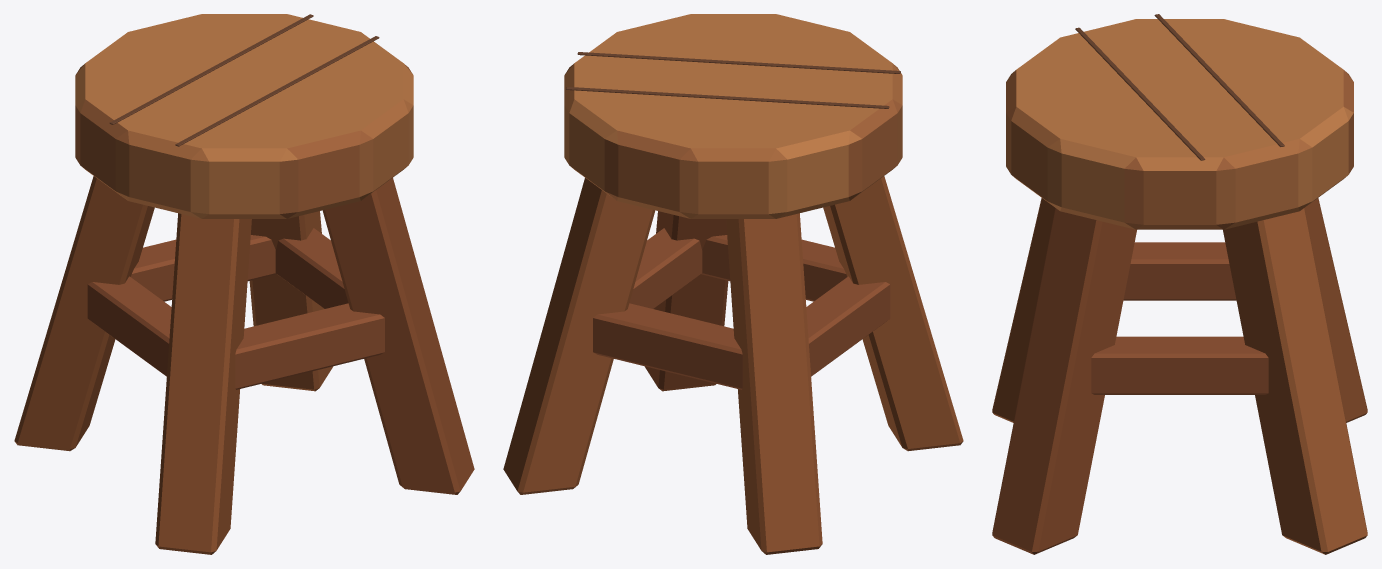
File: fantasy-wooden-stool.glb
The picture shows the model from 3 angles, left to right: view 1: azimuth 30°, elevation 25°; view 2: azimuth 150°, elevation 25°; view 3: azimuth 270°, elevation 25°; orthographic projection. The views are drawn at different scales.
Parts seen in each view (by area): view 1: Seat | faceted round top, Leg | NW, Leg | NE, Leg | SW, Stretcher | north, Stretcher | west, Leg | SE, Stretcher | east, Stretcher | south, Seat seam | board joint 1, Seat seam | board joint 2; view 2: Seat | faceted round top, Leg | SW, Leg | SE, Leg | NW, Stretcher | south, Stretcher | west, Leg | NE, Stretcher | east, Stretcher | north, Seat seam | board joint 1, Seat seam | board joint 2; view 3: Seat | faceted round top, Leg | NE, Leg | SE, Stretcher | east, Stretcher | west, Leg | NW, Leg | SW, Seat seam | board joint 1, Seat seam | board joint 2.
Boxes of the visible parts, x1,y1,x2,y2 form: Seat | faceted round top: (75, 14, 413, 218); Leg | NW: (155, 213, 251, 554); Leg | NE: (322, 178, 474, 494); Leg | SW: (14, 176, 154, 451); Stretcher | north: (235, 303, 384, 389); Stretcher | west: (87, 276, 171, 376); Leg | SE: (249, 211, 333, 391); Stretcher | east: (275, 228, 348, 308); Stretcher | south: (131, 235, 276, 301); Seat seam | board joint 1: (175, 36, 379, 146); Seat seam | board joint 2: (109, 14, 313, 124); Seat | faceted round top: (564, 14, 902, 218); Leg | SW: (726, 213, 822, 554); Leg | SE: (503, 178, 655, 494); Leg | NW: (823, 176, 963, 451); Stretcher | south: (593, 303, 742, 389); Stretcher | west: (806, 276, 890, 376); Leg | NE: (644, 211, 728, 391); Stretcher | east: (629, 228, 702, 308); Stretcher | north: (701, 235, 846, 301); Seat seam | board joint 1: (577, 52, 900, 73); Seat seam | board joint 2: (566, 87, 889, 108); Seat | faceted round top: (1006, 19, 1353, 229); Leg | NE: (992, 208, 1136, 554); Leg | SE: (1223, 208, 1367, 554); Stretcher | east: (1091, 336, 1268, 394); Stretcher | west: (1123, 242, 1236, 300); Leg | NW: (992, 198, 1055, 422); Leg | SW: (1304, 198, 1367, 422); Seat seam | board joint 1: (1075, 27, 1205, 160); Seat seam | board joint 2: (1154, 14, 1284, 146).
Bounding box in the file's own units: 0.6569 × 0.753 × 0.6569.
